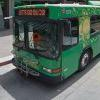Bus: (8, 1, 96, 83)
